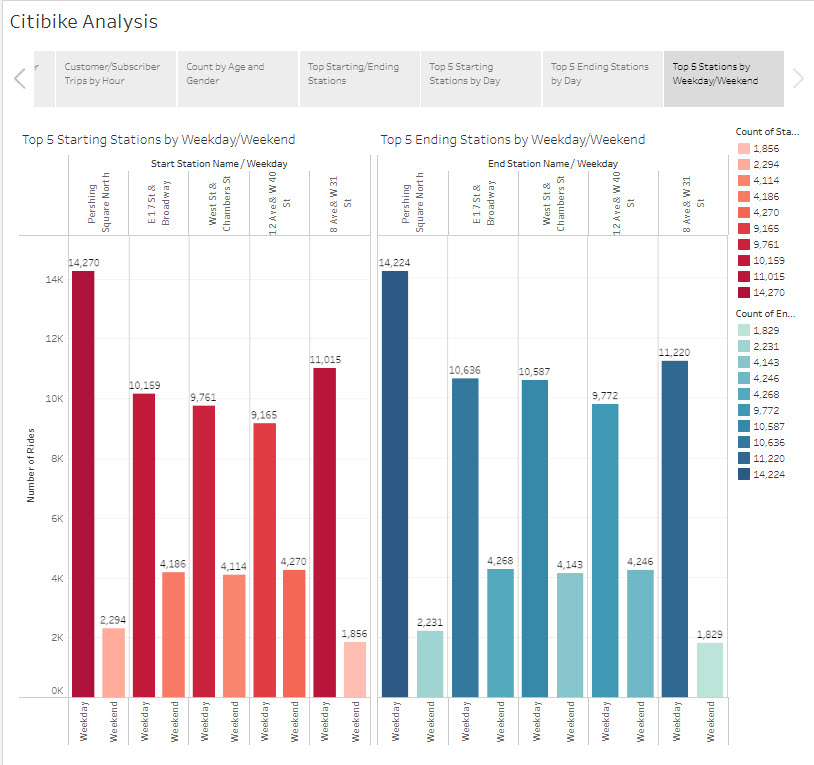

What the dashboard file says about the page in this screenshot:
{"tool":"tableau","page":{"name":"Dashboard 3","canvas":[1000,800],"ordinal":2},"visuals":[{"type":"worksheet","title":"Top 5 Starting Stations by Weekday/Weekend","mark":"Bar","rows":["new_citidata.csv_2092E5977E0D40EE955A89803B8F2B2F"],"cols":["start station name","Weekday (copy)_684828671874207744"],"box":[8,8,448,784]},{"type":"worksheet","title":"Top 5 Ending Stations by Weekday/Weekend","mark":"Bar","rows":["new_citidata.csv_2092E5977E0D40EE955A89803B8F2B2F"],"cols":["end station name","Calculation_187180912427802624"],"box":[456,8,448,784]},{"type":"legend","title":"Top 5 Starting Stations by Weekday/Weekend","param":"[federated.0oyse0e0kn00c418yci4800ggdbp].[cnt:start station name:ok]","box":[904,8,88,226]},{"type":"legend","title":"Top 5 Ending Stations by Weekday/Weekend","param":"[federated.0oyse0e0kn00c418yci4800ggdbp].[cnt:end station name:ok]","box":[904,234,88,226]}]}

Visuals, with their boxes on the page's 1000x800 design canvas (x1, y1, x2, y2). These are canvas units, not pixel positions in the 814x765 screenshot, which may show the page scaled, cropped or inside an application window:
"Top 5 Starting Stations by Weekday/Weekend" worksheet (Bar marks): [8, 8, 456, 792]
"Top 5 Ending Stations by Weekday/Weekend" worksheet (Bar marks): [456, 8, 904, 792]
"Top 5 Starting Stations by Weekday/Weekend" legend: [904, 8, 992, 234]
"Top 5 Ending Stations by Weekday/Weekend" legend: [904, 234, 992, 460]
